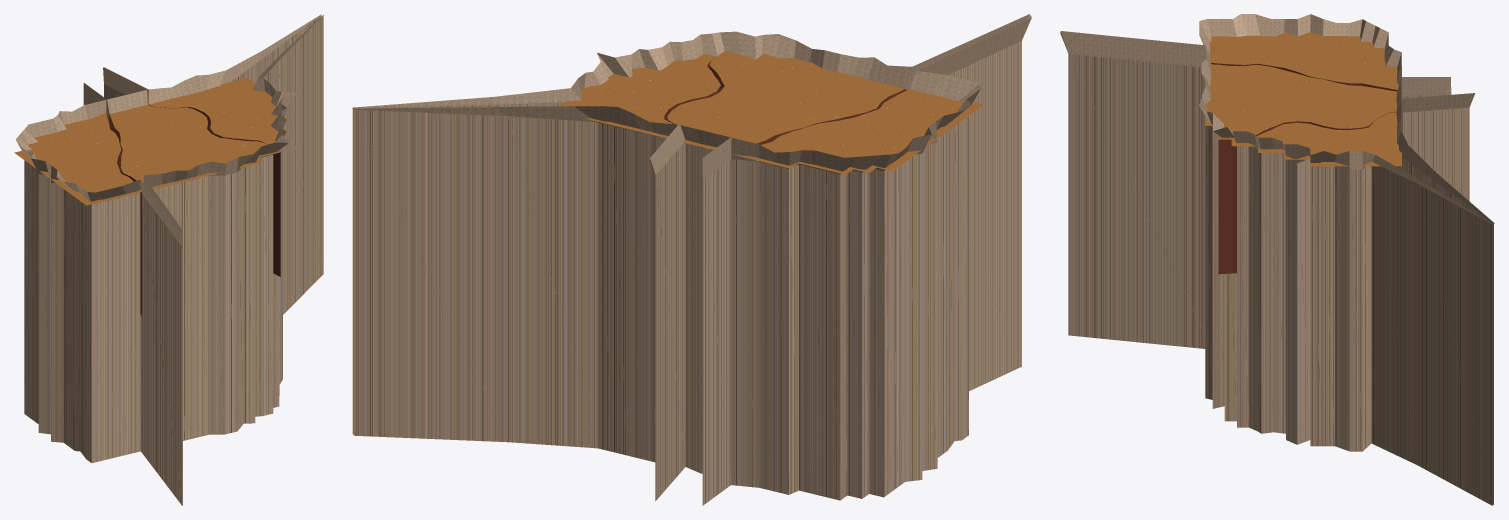
The model's file is World_Frame_02_240321.fbx.
3 renders of one model, left to right at view 1: azimuth 30°, elevation 25°; view 2: azimuth 150°, elevation 25°; view 3: azimuth 270°, elevation 25°, orthographic. The views are drawn at different scales.
Parts seen in each view (by area): view 1: Ground-Cliffs, Ground-Area2, Ground-Area1, Ground-Area3; view 2: Ground-Cliffs, Ground-Area2, Ground-Area1, Ground-Area3; view 3: Ground-Cliffs, Ground-Area2, Ground-Area1, Ground-Area3.
Boxes of the visible parts, x1,y1,x2,y2 form: Ground-Cliffs: (15,14,323,505); Ground-Area2: (109,105,280,276); Ground-Area1: (14,113,141,315); Ground-Area3: (148,78,289,276); Ground-Cliffs: (352,14,1031,505); Ground-Area2: (667,51,906,149); Ground-Area1: (732,89,983,174); Ground-Area3: (559,54,720,138); Ground-Cliffs: (1060,14,1494,505); Ground-Area2: (1205,64,1401,138); Ground-Area1: (1210,32,1401,91); Ground-Area3: (1218,112,1401,274).
Size of the model in its own units: 48090 by 34026 by 44206.
